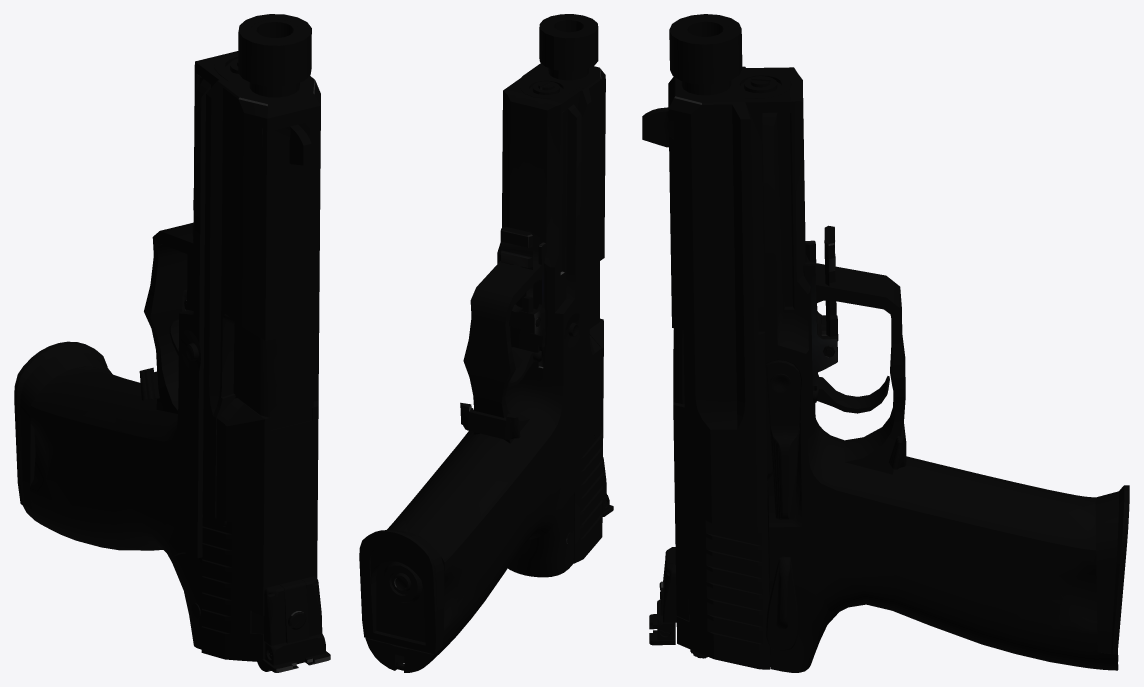
Rendered from HK_USP45__Adapter_USP_Rail.fbx.
3 views of the same model, side by side, from view 1: azimuth 30°, elevation 25°; view 2: azimuth 150°, elevation 25°; view 3: azimuth 270°, elevation 25° (orthographic). The views are drawn at different scales.
Visible parts, largest first — view 1: asset_HK_USP45.001; view 2: asset_HK_USP45.001; view 3: asset_HK_USP45.001.
Part boxes in pixels (left/top/right/bottom): asset_HK_USP45.001: left=14, top=14, right=330, bottom=672; asset_HK_USP45.001: left=359, top=14, right=613, bottom=672; asset_HK_USP45.001: left=642, top=14, right=1129, bottom=672.
Bounding box in the file's own units: 0.0228 × 0.135 × 0.0938.
